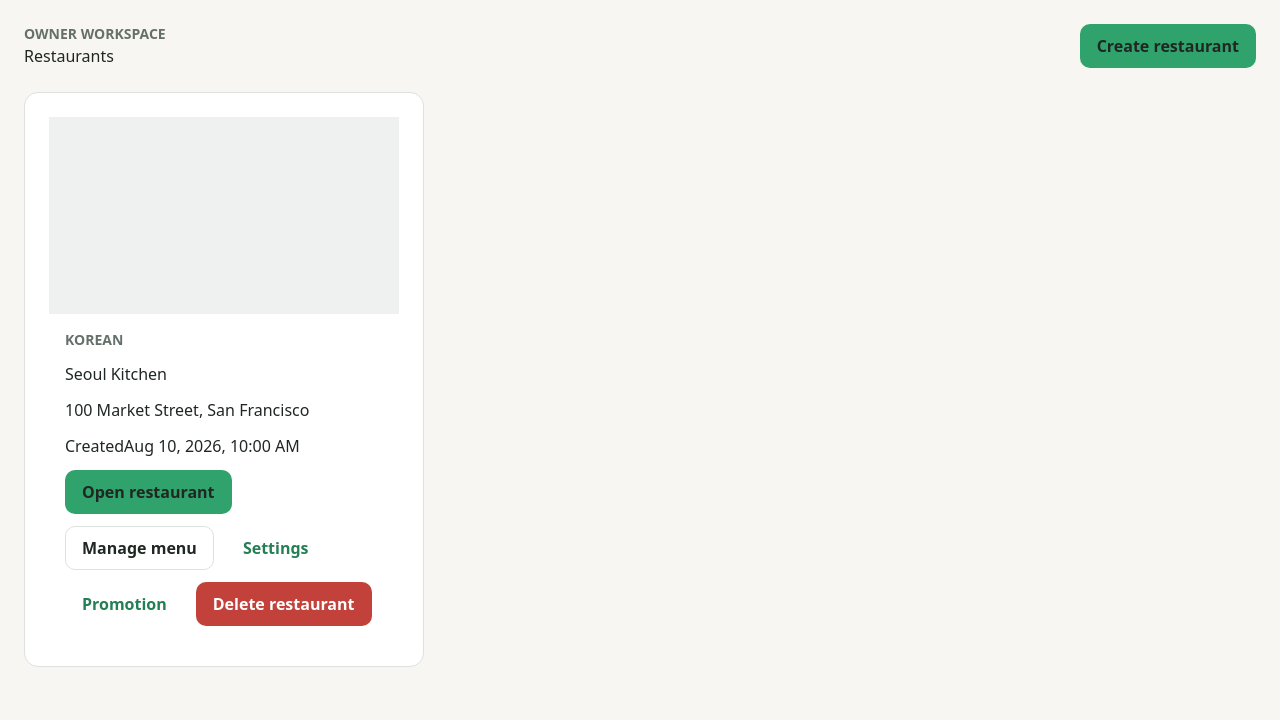
OwnerRestaurantsPage CRUD › navigates to create and deletes only the selected restaurant after confirmation
The width and height of the screenshot is (1280, 720).
Expected: the heading "Seoul Kitchen" is shown, [65, 364, 167, 386]
Click the button "Create restaurant": (1168, 46) [1080, 24, 1256, 68]
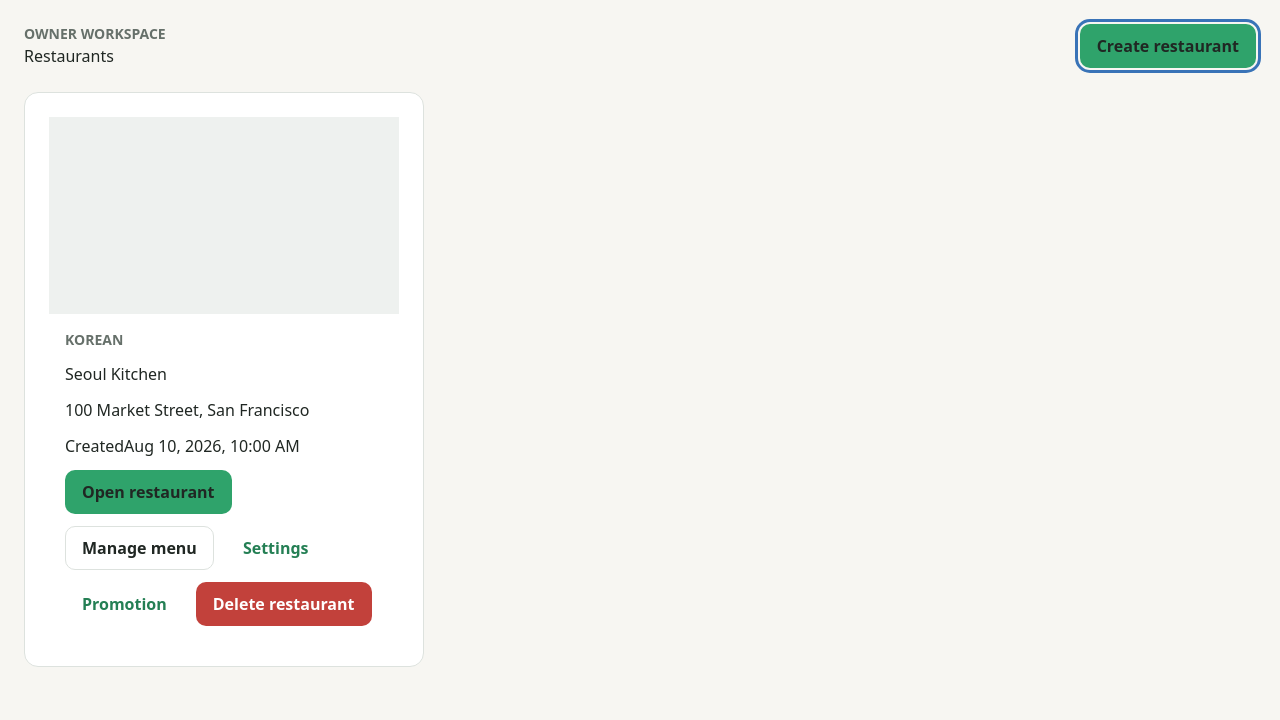
Click the button "Delete restaurant": (284, 604) [196, 582, 372, 626]
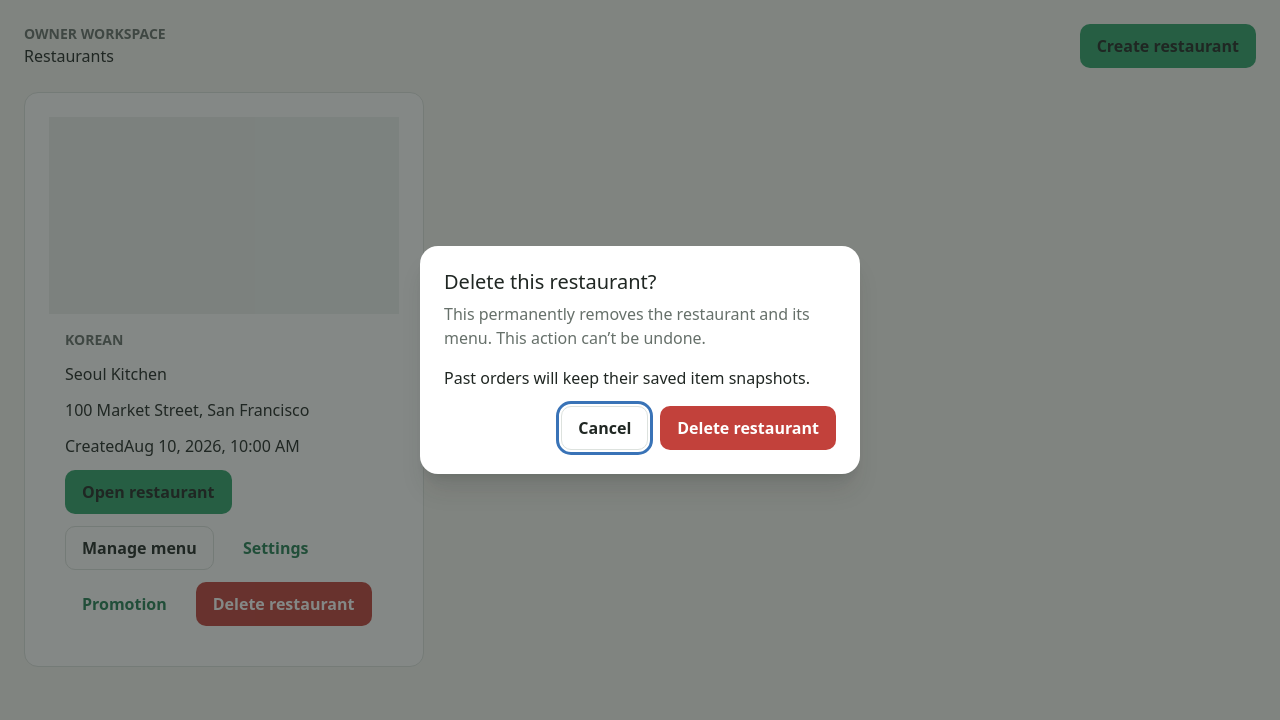
Expected: the text "This permanently removes the restaurant and its menu. This action can’t be undone." is shown, [444, 303, 810, 349]
Click the button "Delete restaurant": (748, 428) [660, 406, 836, 450]
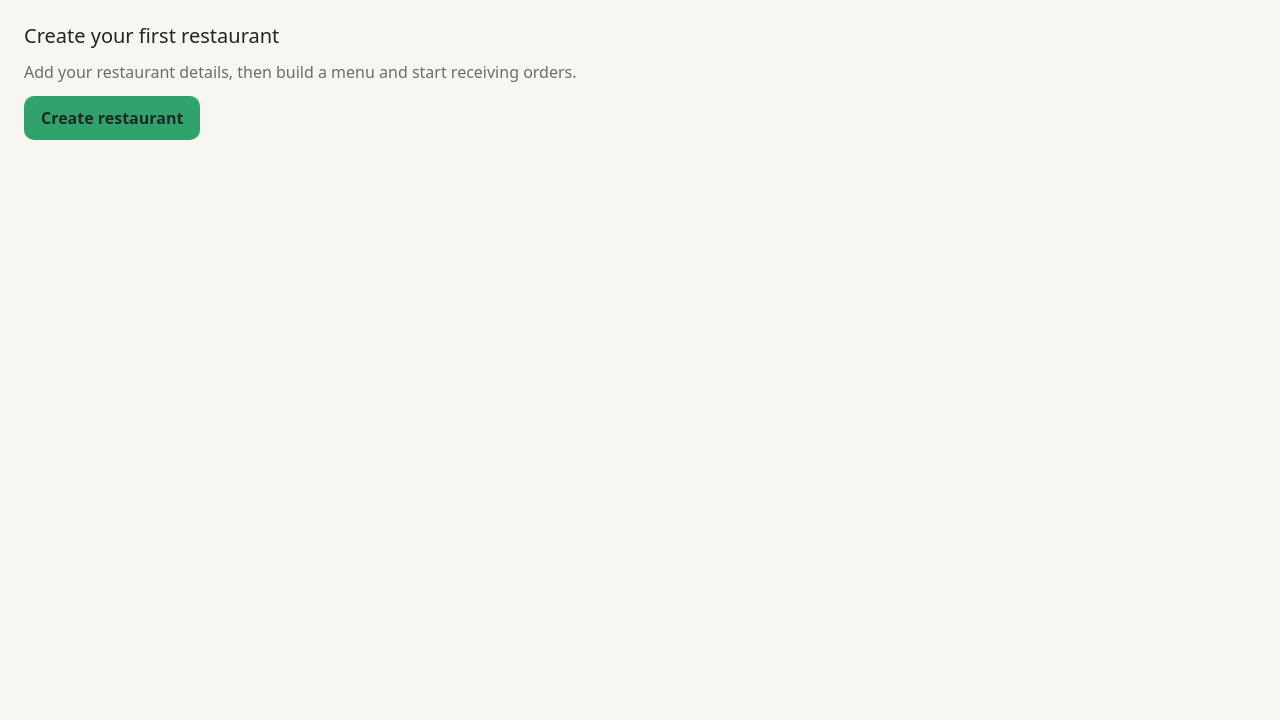
Expected: the heading "Create your first restaurant" is shown, [24, 24, 279, 48]
